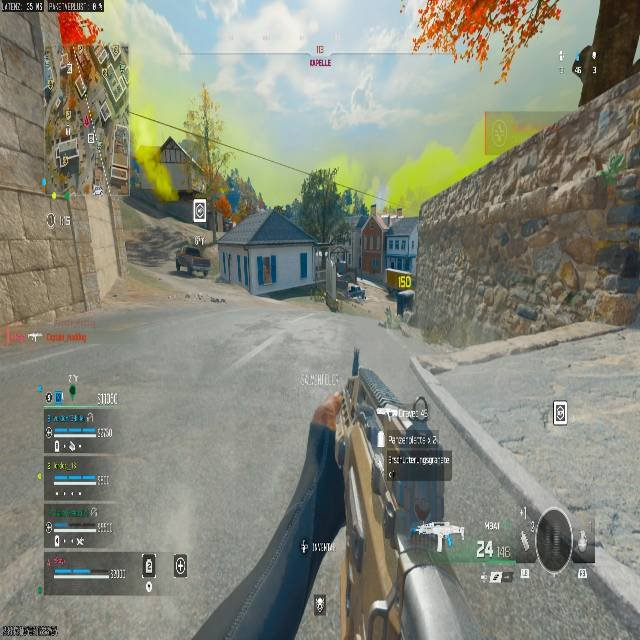player: (346, 282, 367, 300)
